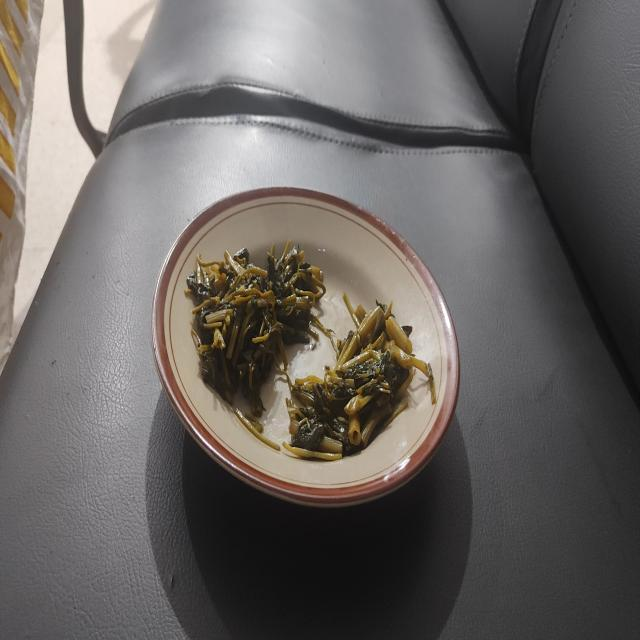tumis_kangkung: (186, 240, 326, 417), (286, 294, 436, 457)
